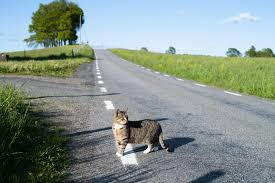cat: (111, 107, 168, 155)
